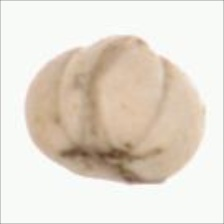L5: (88, 33, 170, 148), (52, 136, 175, 189)
L6: (24, 34, 209, 188)
